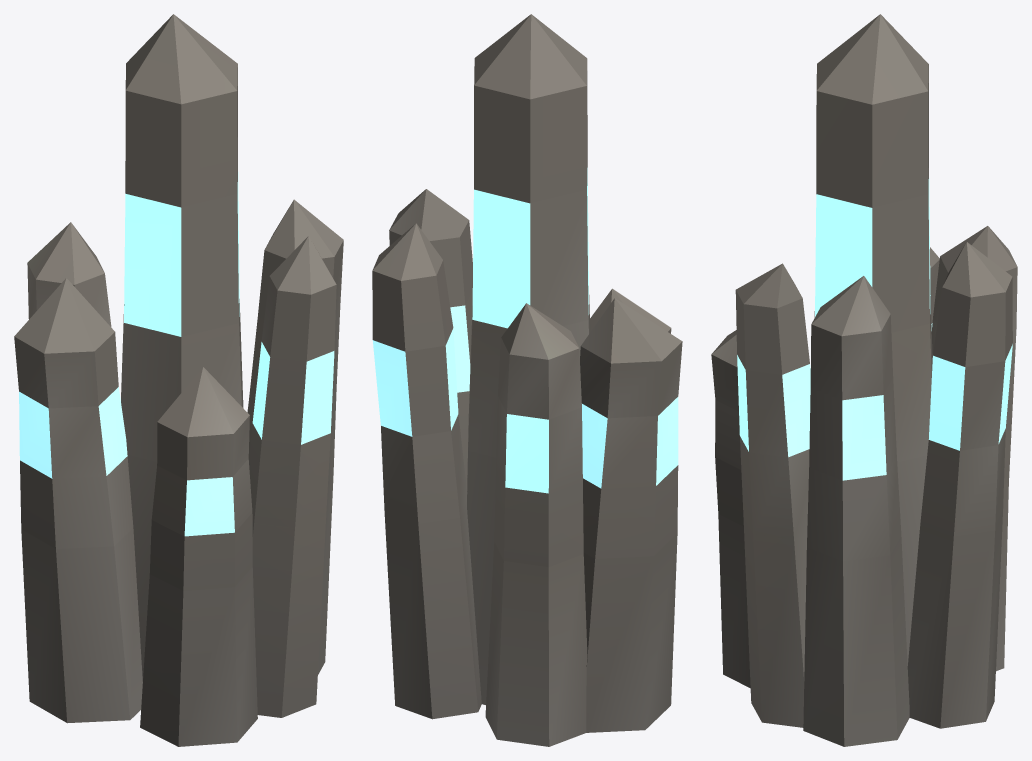
File: geo_spell_spire.glb
3 views of the same model, side by side, from view 1: azimuth 30°, elevation 25°; view 2: azimuth 150°, elevation 25°; view 3: azimuth 270°, elevation 25° (orthographic).
Visible parts, largest first — view 1: geo_spell_spire; view 2: geo_spell_spire; view 3: geo_spell_spire.
Part boxes in pixels (x1,y1,x2,y2): geo_spell_spire: (14,14,343,746); geo_spell_spire: (372,14,682,746); geo_spell_spire: (711,14,1017,746).
Bounding box in the file's own units: 2.04 × 4.41 × 1.83.
